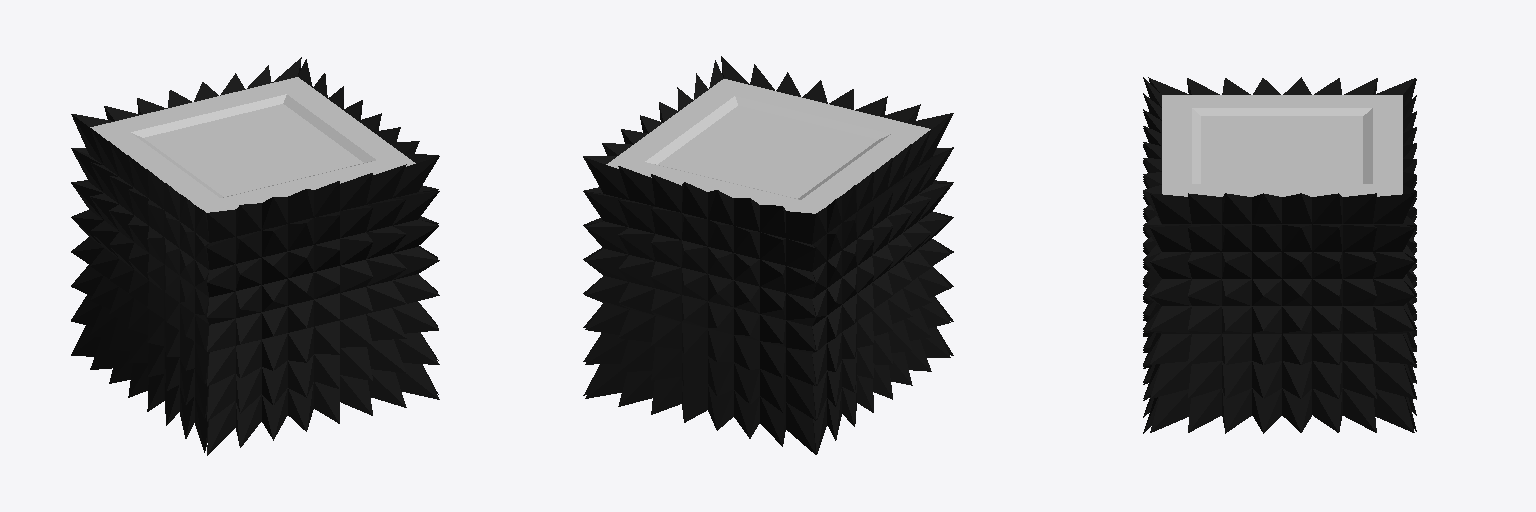
The model's file is bush.obj.
3 renders of one model, left to right at view 1: azimuth 30°, elevation 25°; view 2: azimuth 150°, elevation 25°; view 3: azimuth 270°, elevation 25°, orthographic.
Visible parts, largest first — view 1: Cube; view 2: Cube; view 3: Cube.
Part boxes in pixels (left/top/right/bottom): Cube: left=71, top=57, right=439, bottom=455; Cube: left=583, top=56, right=953, bottom=454; Cube: left=1143, top=77, right=1416, bottom=433.
Bounding box in the file's own units: 1.13 × 1.12 × 1.14.